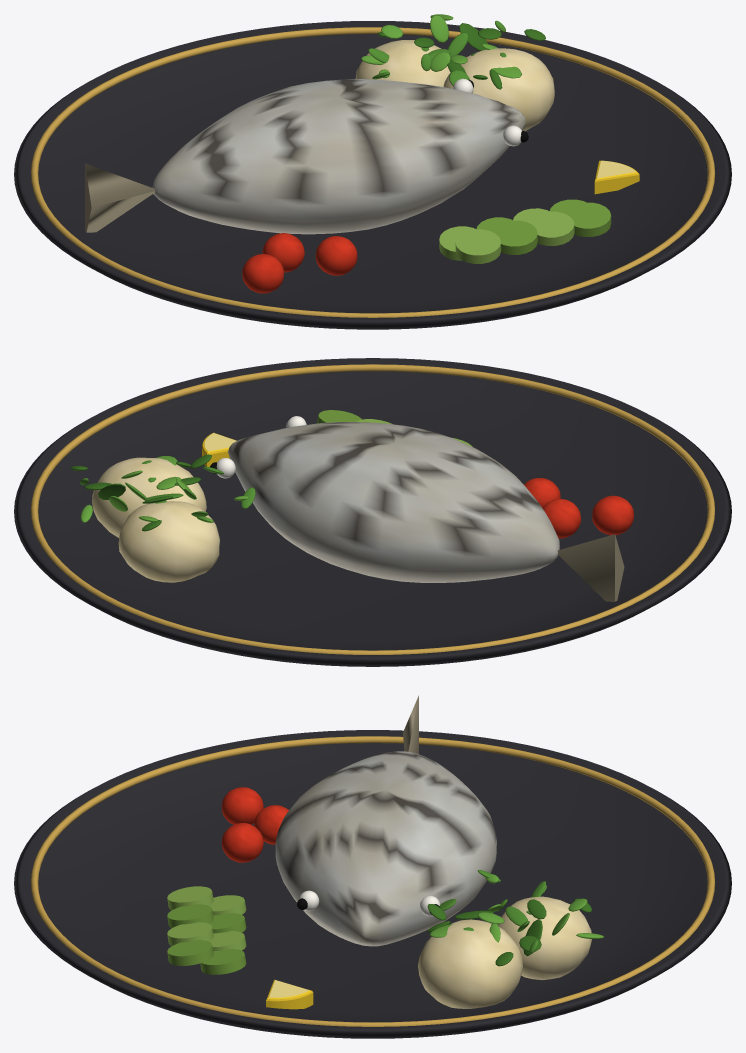
The model's file is dourada.glb.
3 views of the same model, one above another, from view 1: azimuth 30°, elevation 25°; view 2: azimuth 150°, elevation 25°; view 3: azimuth 270°, elevation 25° (orthographic).
Size of the model in its own units: 0.2864 by 0.0532 by 0.2864.
